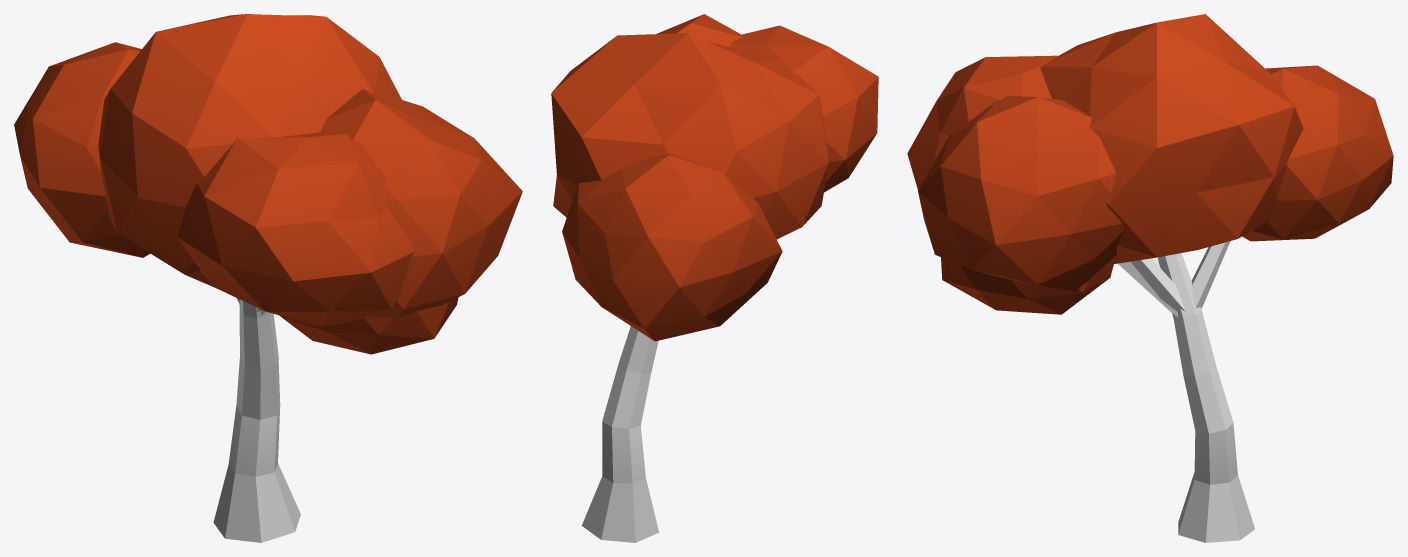
File: tree_autumn_b.glb
The picture shows the model from 3 angles, left to right: view 1: azimuth 30°, elevation 25°; view 2: azimuth 150°, elevation 25°; view 3: azimuth 270°, elevation 25°; orthographic projection. The views are drawn at different scales.
Parts seen in each view (by area): view 1: Canopy_deco, Trunk; view 2: Canopy_deco, Trunk; view 3: Canopy_deco, Trunk.
Part boxes in pixels (x1=…): Canopy_deco: x1=14, y1=14, x2=522, y2=354; Trunk: x1=213, y1=298, x2=300, y2=542; Canopy_deco: x1=551, y1=14, x2=878, y2=341; Trunk: x1=581, y1=326, x2=658, y2=542; Canopy_deco: x1=907, y1=14, x2=1393, y2=314; Trunk: x1=1118, y1=241, x2=1254, y2=542.
Bounding box in the file's own units: 3.94 × 5.98 × 5.38.
